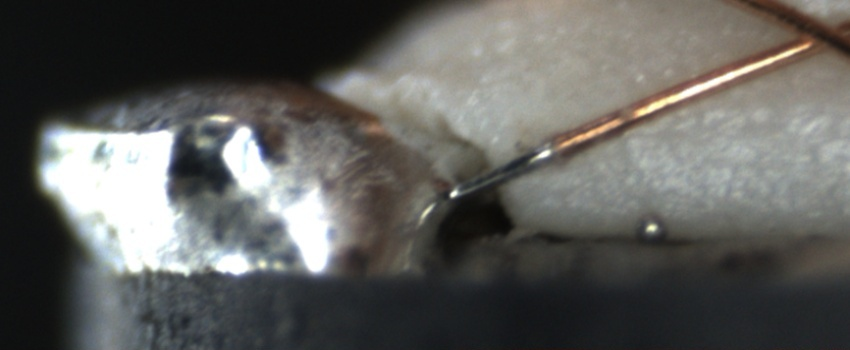CL: (768, 5, 849, 62)
DL: (635, 101, 850, 165)
TS: (444, 144, 556, 202)
